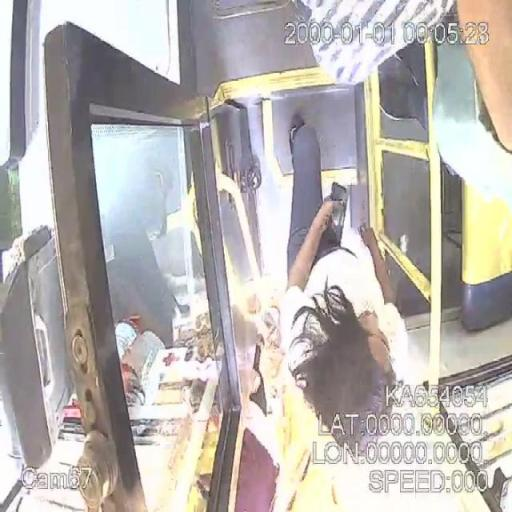persona: (276, 118, 410, 458)
